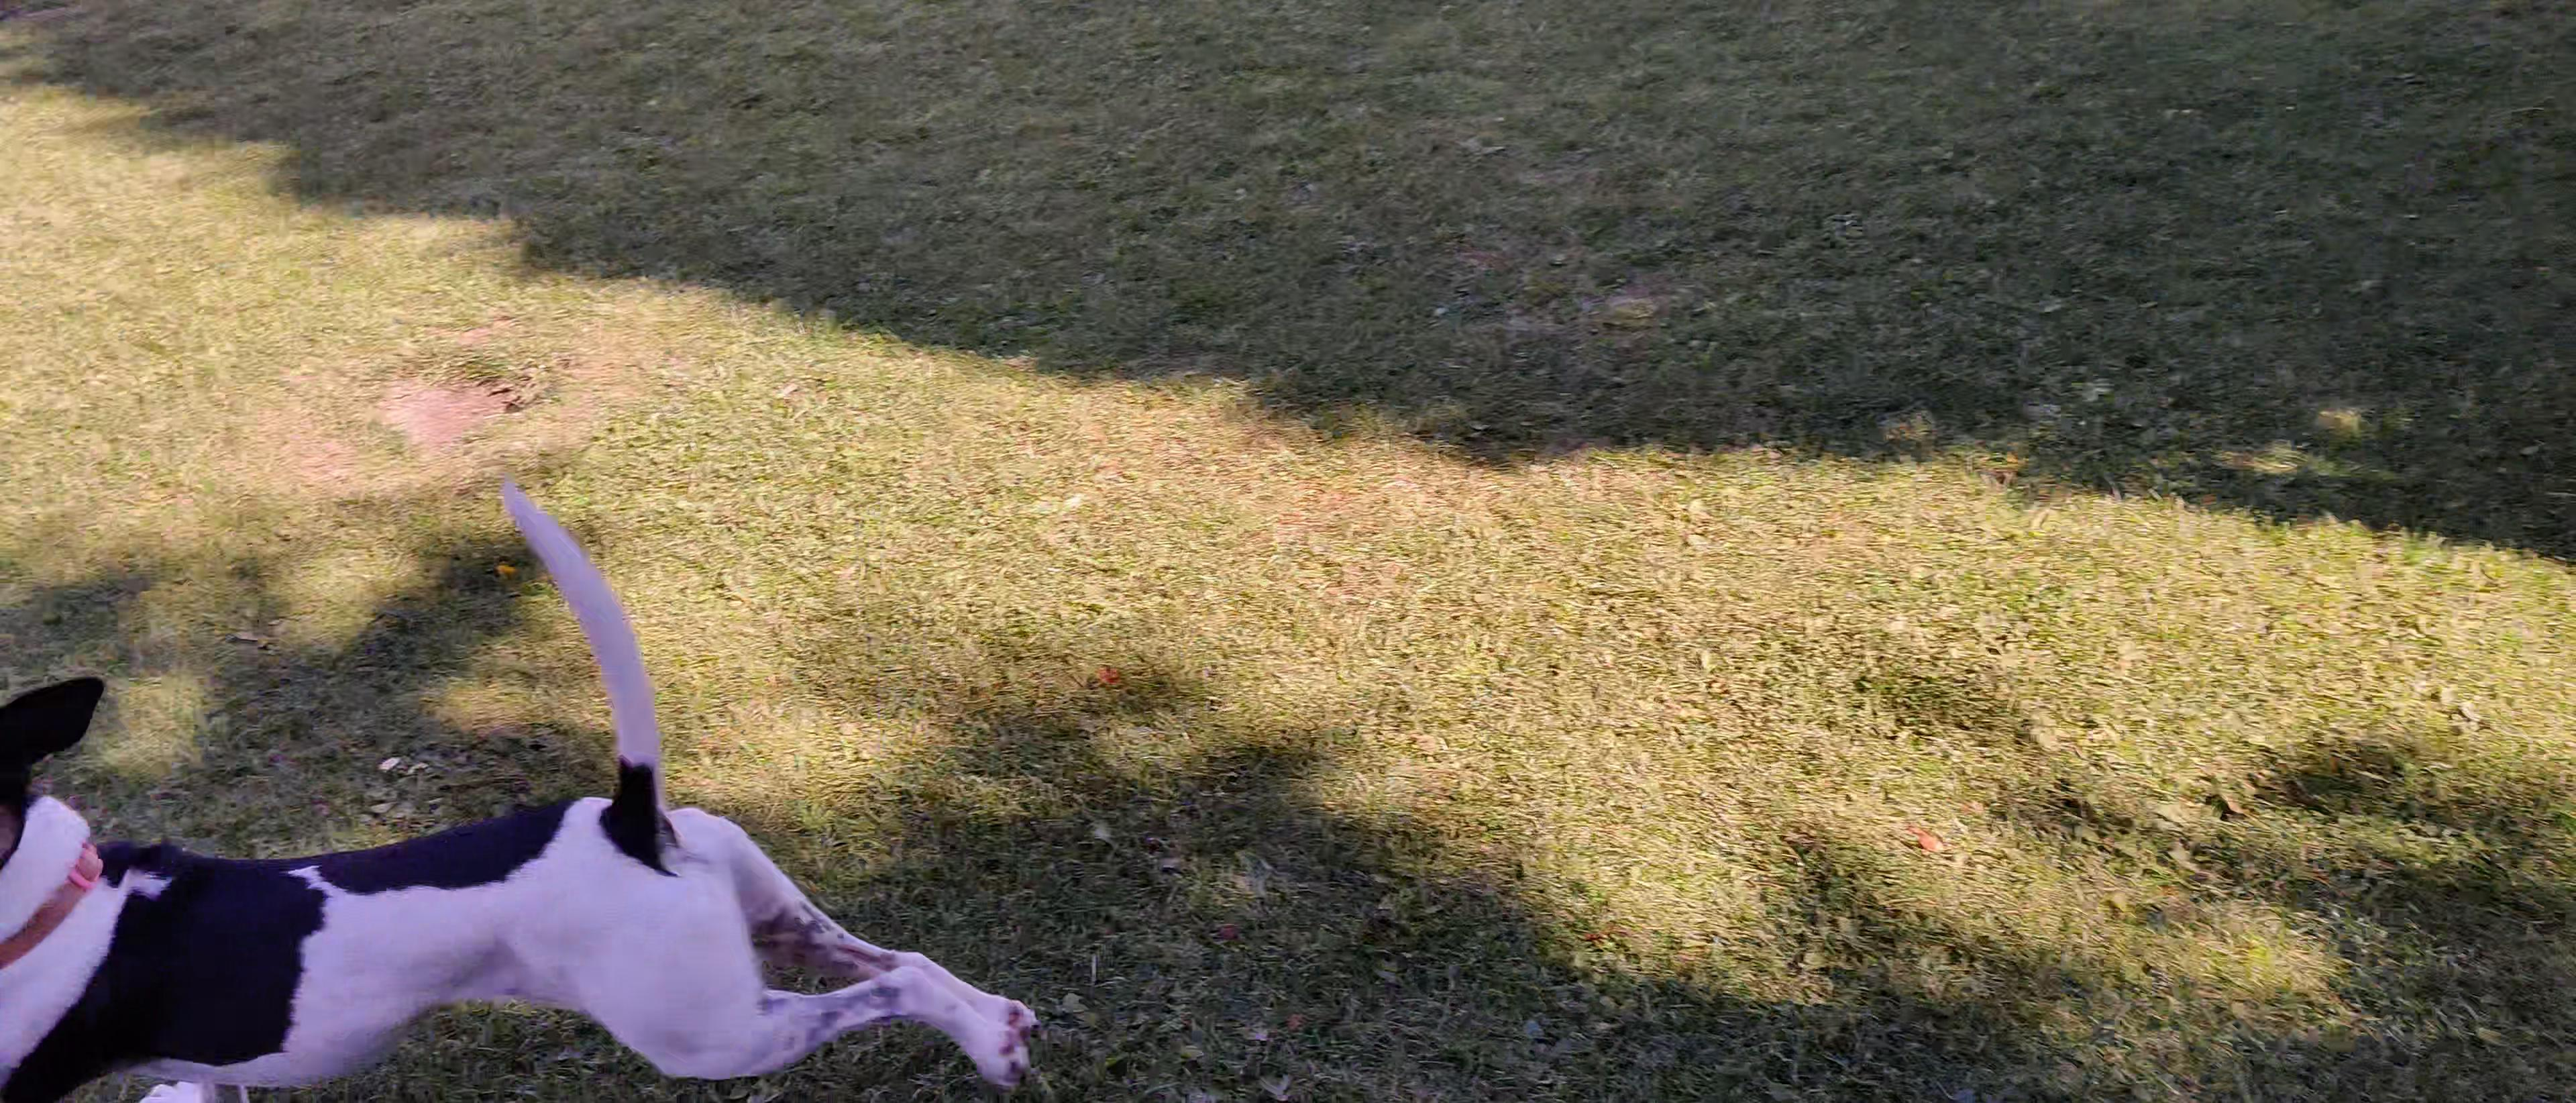Dog: (0, 468, 1056, 1103)
